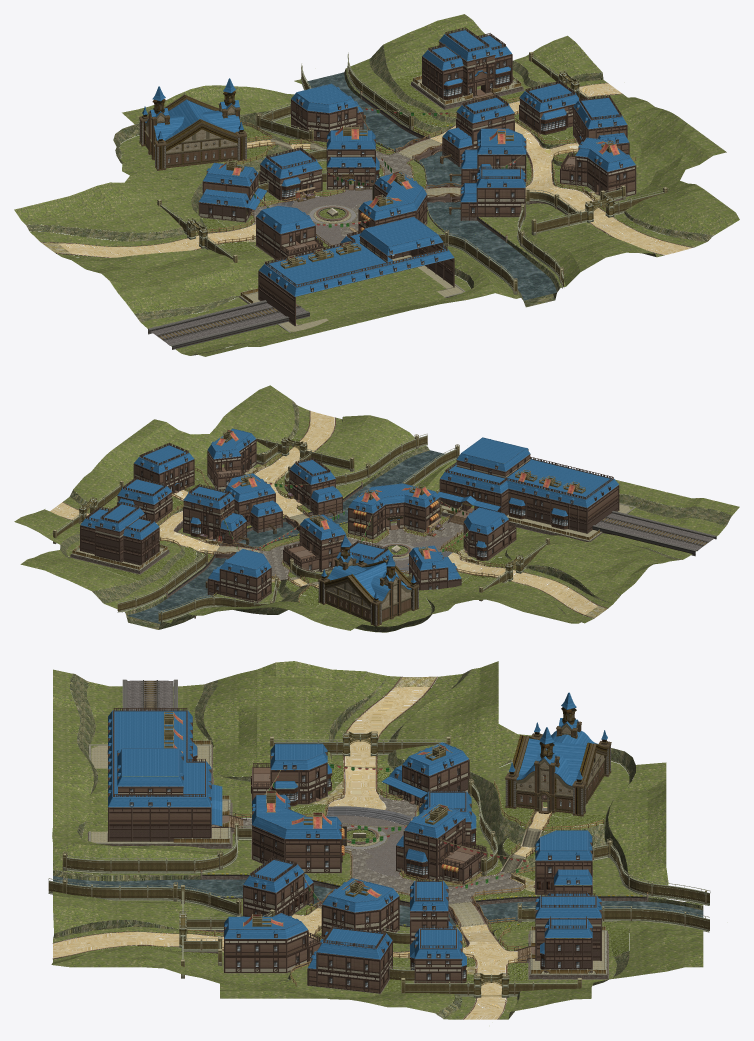
File: Parm.glb
3 renders of one model, top to bottom at view 1: azimuth 30°, elevation 25°; view 2: azimuth 150°, elevation 25°; view 3: azimuth 270°, elevation 25°, orthographic. The views are drawn at different scales.
Parts seen in each view (by area): view 1: ground1_ground1Shape.002, g_house_west1_g_house_west1Shape.002, polySurface7_polySurfaceShape15.002, body_bodyShape.002, river_riverShape.002, g_saku_h_g_saku_hShape.002, g_dodai3_g_dodai3Shape.002, gate_s_gate_sShape.002, g_saku_m_g_saku_mShape.002, g_hashi1_g_hashi1Shape.002, g_dodai2_g_dodai2Shape.002, gate_w_gate_wShape.002 (+2 smaller); view 2: ground1_ground1Shape.002, g_house_west1_g_house_west1Shape.002, polySurface7_polySurfaceShape15.002, body_bodyShape.002, g_saku_h_g_saku_hShape.002, g_dodai3_g_dodai3Shape.002, river_riverShape.002, g_saku_m_g_saku_mShape.002, gate_s_gate_sShape.002, g_dodai2_g_dodai2Shape.002, gate_e_gate_eShape.002, g_hashi1_g_hashi1Shape.002 (+2 smaller); view 3: ground1_ground1Shape.002, g_house_west1_g_house_west1Shape.002, polySurface7_polySurfaceShape15.002, g_saku_h_g_saku_hShape.002, body_bodyShape.002, g_dodai3_g_dodai3Shape.002, river_riverShape.002, g_saku_m_g_saku_mShape.002, gate_e_gate_eShape.002, g_dodai2_g_dodai2Shape.002, gate_w_gate_wShape.002, gate_s_gate_sShape.002 (+3 smaller).
Part boxes in pixels (box(x1,y1,x2,y2)): ground1_ground1Shape.002: box(14, 14, 739, 356); g_house_west1_g_house_west1Shape.002: box(198, 83, 454, 326); polySurface7_polySurfaceShape15.002: box(422, 27, 636, 220); body_bodyShape.002: box(139, 78, 247, 170); river_riverShape.002: box(307, 72, 556, 300); g_saku_h_g_saku_hShape.002: box(256, 52, 564, 294); g_dodai3_g_dodai3Shape.002: box(148, 255, 465, 349); gate_s_gate_sShape.002: box(526, 185, 667, 235); g_saku_m_g_saku_mShape.002: box(195, 94, 635, 246); g_hashi1_g_hashi1Shape.002: box(360, 91, 507, 242); g_dodai2_g_dodai2Shape.002: box(410, 75, 524, 110); gate_w_gate_wShape.002: box(157, 199, 237, 262); ground1_ground1Shape.002: box(14, 385, 739, 632); g_house_west1_g_house_west1Shape.002: box(205, 437, 619, 602); polySurface7_polySurfaceShape15.002: box(80, 428, 342, 565); body_bodyShape.002: box(318, 534, 419, 626); g_saku_h_g_saku_hShape.002: box(117, 433, 459, 622); g_dodai3_g_dodai3Shape.002: box(441, 503, 716, 556); river_riverShape.002: box(127, 450, 444, 623); g_saku_m_g_saku_mShape.002: box(156, 452, 516, 602); gate_s_gate_sShape.002: box(236, 429, 354, 492); g_dodai2_g_dodai2Shape.002: box(69, 544, 170, 574); gate_e_gate_eShape.002: box(53, 480, 123, 543); g_hashi1_g_hashi1Shape.002: box(166, 481, 362, 618); ground1_ground1Shape.002: box(51, 661, 703, 1019); g_house_west1_g_house_west1Shape.002: box(107, 708, 592, 895); polySurface7_polySurfaceShape15.002: box(223, 856, 601, 993); g_saku_h_g_saku_hShape.002: box(48, 779, 710, 980); body_bodyShape.002: box(505, 692, 611, 816); g_dodai3_g_dodai3Shape.002: box(88, 679, 246, 848); river_riverShape.002: box(53, 876, 703, 926); g_saku_m_g_saku_mShape.002: box(187, 752, 603, 986); gate_e_gate_eShape.002: box(401, 972, 581, 997); g_dodai2_g_dodai2Shape.002: box(514, 926, 608, 979); gate_w_gate_wShape.002: box(270, 731, 450, 756); gate_s_gate_sShape.002: box(179, 885, 275, 978).
Bounding box in the file's own units: 177 × 27.14 × 156.
60 materials, 60 textured.
